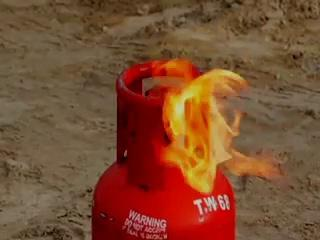Fire: (132, 48, 318, 190)
